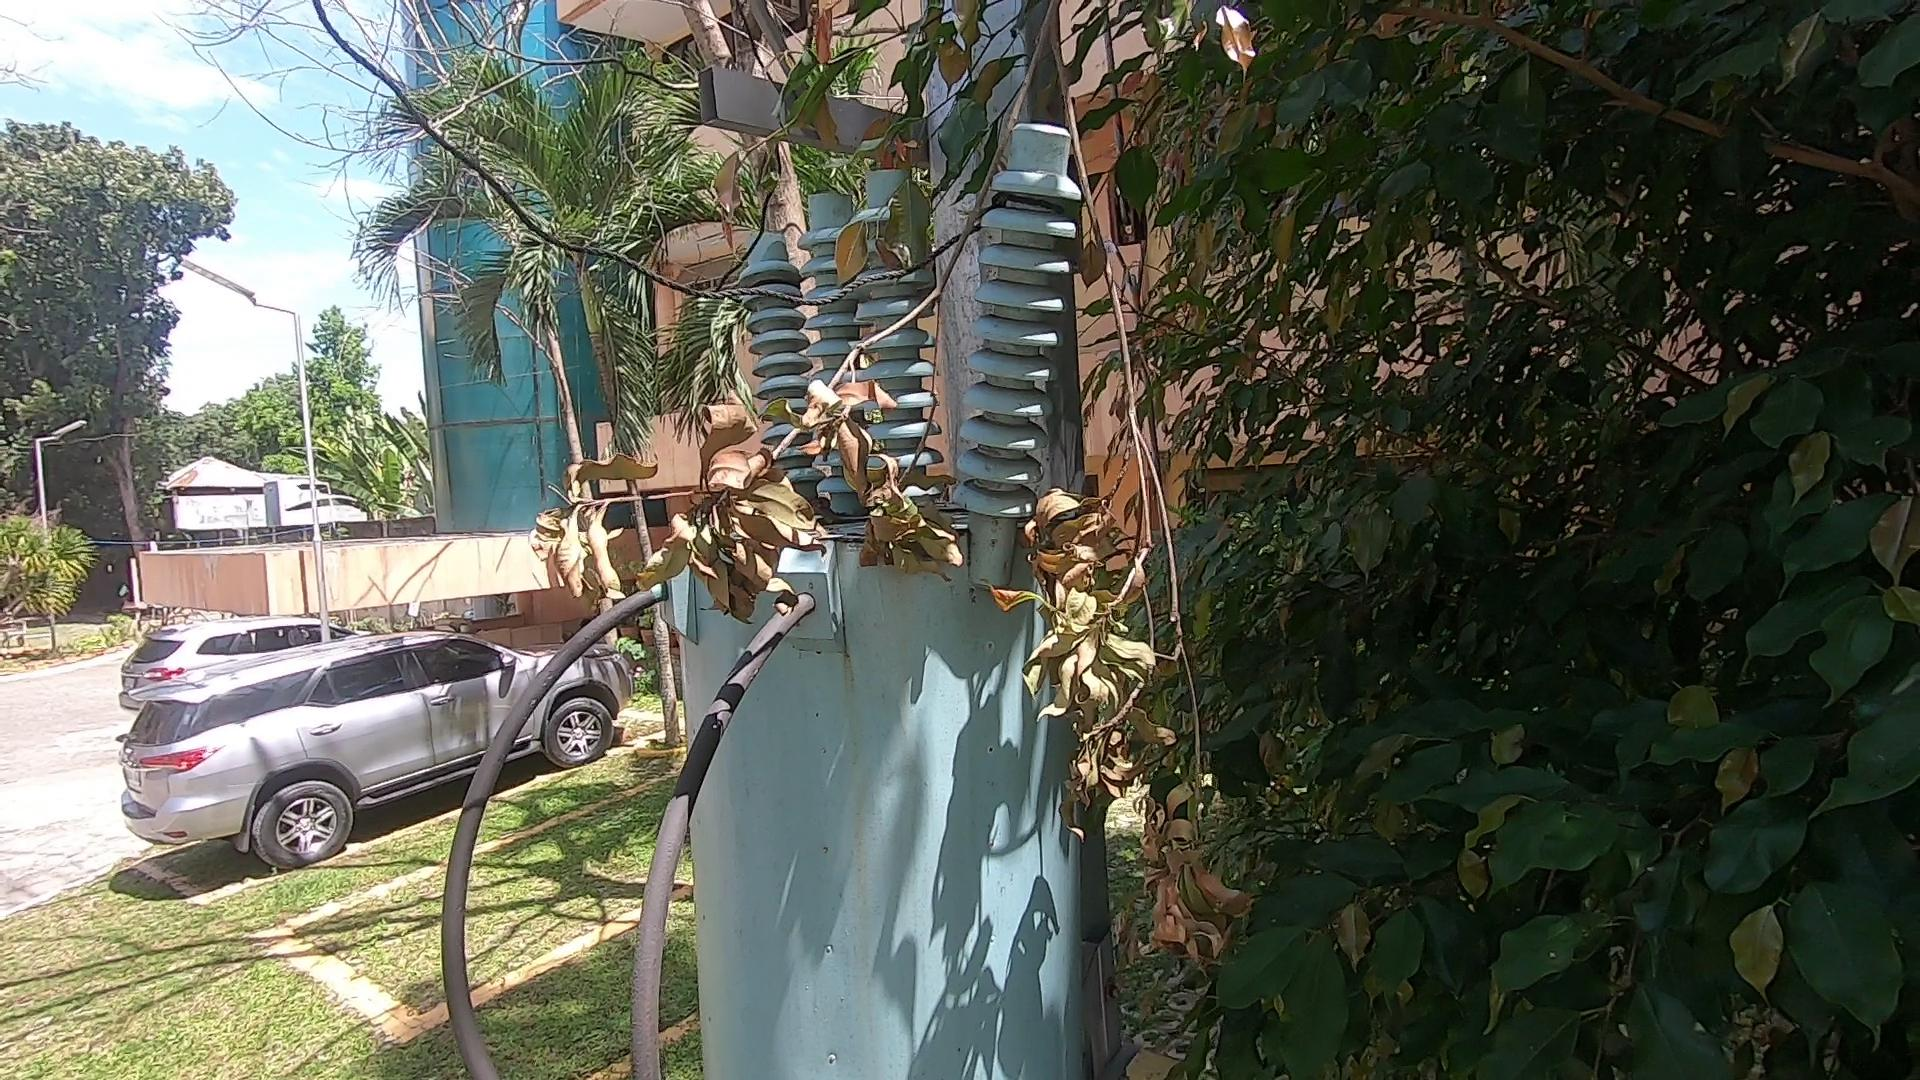branch with leaves: (509, 26, 1043, 632), (1043, 3, 1251, 988)
